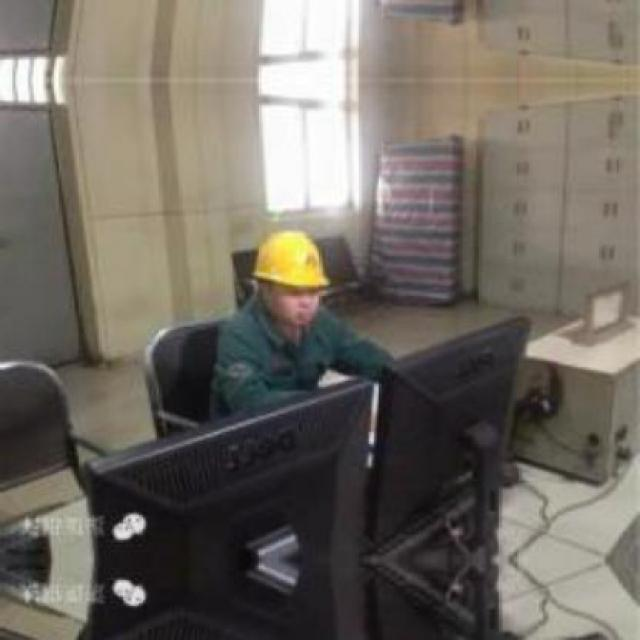helmet: (252, 224, 336, 328)
